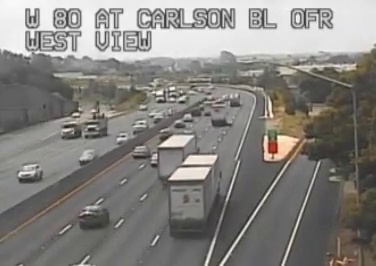car: (78, 206, 108, 225), (132, 146, 147, 157)
truck: (167, 154, 220, 234), (157, 134, 197, 183)
